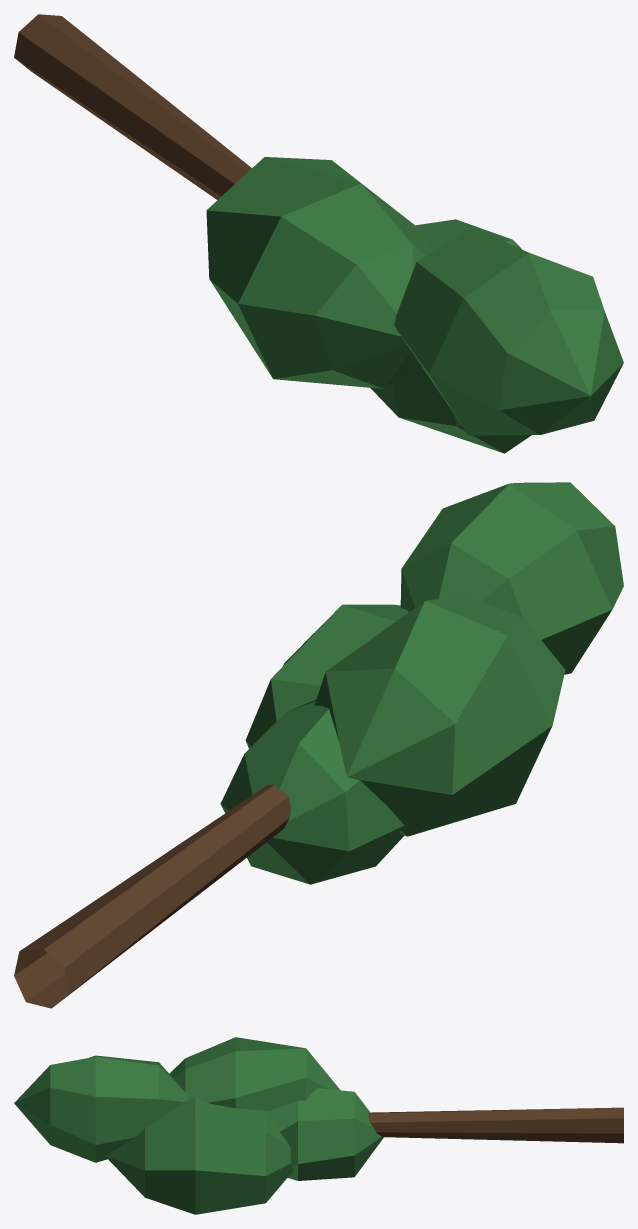
Rendered from growth_0.glb.
3 renders of one model, top to bottom at view 1: azimuth 30°, elevation 25°; view 2: azimuth 150°, elevation 25°; view 3: azimuth 270°, elevation 25°, orthographic. The views are drawn at different scales.
Parts seen in each view (by area): view 1: tree_00_growth_0; view 2: tree_00_growth_0; view 3: tree_00_growth_0.
Boxes of the visible parts, x1,y1,x2,y2 form: tree_00_growth_0: [14, 14, 623, 453]; tree_00_growth_0: [14, 482, 623, 1008]; tree_00_growth_0: [14, 1037, 623, 1214].
Size of the model in its own units: 6.6 by 5.55 by 21.04.
